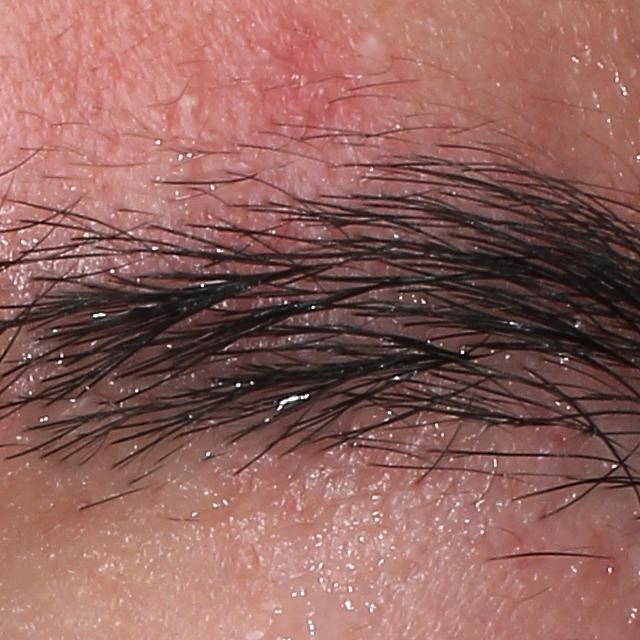comedo: (175, 93, 203, 116)
